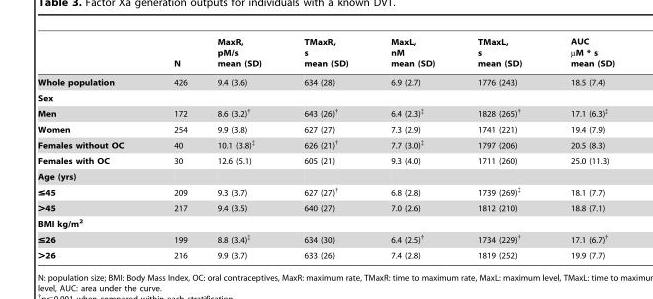table: (37, 36, 614, 259)
table column: (37, 36, 148, 259), (455, 36, 545, 259), (282, 36, 369, 259), (369, 36, 455, 259), (201, 36, 282, 259), (545, 36, 614, 259), (148, 36, 201, 259)
table column header: (37, 36, 614, 72)
table projected row header: (37, 168, 614, 183), (37, 215, 614, 230), (37, 90, 614, 104)
table row: (37, 36, 614, 72), (37, 72, 614, 90), (37, 104, 614, 121), (37, 183, 614, 200), (37, 230, 614, 247), (37, 136, 614, 152), (37, 152, 614, 168), (37, 121, 614, 136), (37, 168, 614, 183), (37, 200, 614, 215), (37, 215, 614, 230), (37, 90, 614, 104), (37, 247, 614, 259)
